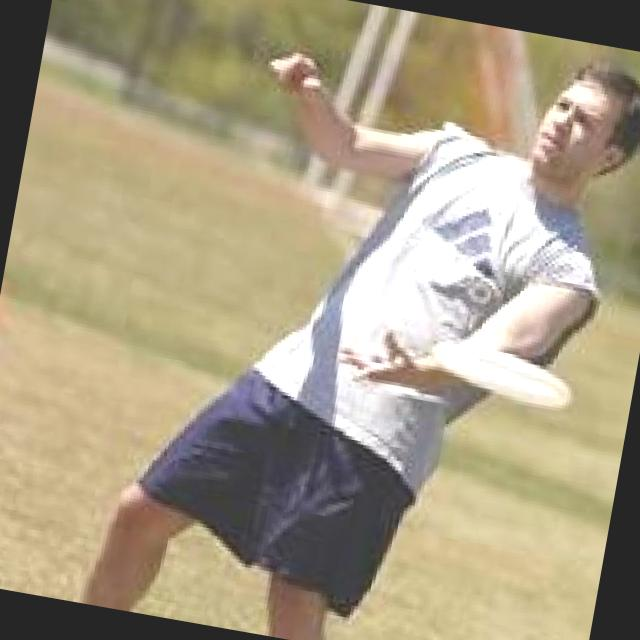no_vest: (189, 117, 640, 524)
